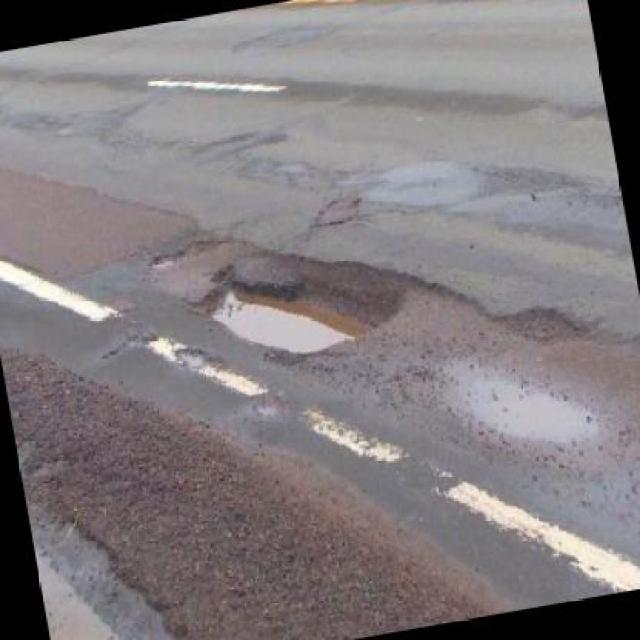pothole: (186, 227, 414, 379), (501, 293, 588, 358), (145, 242, 187, 273)
